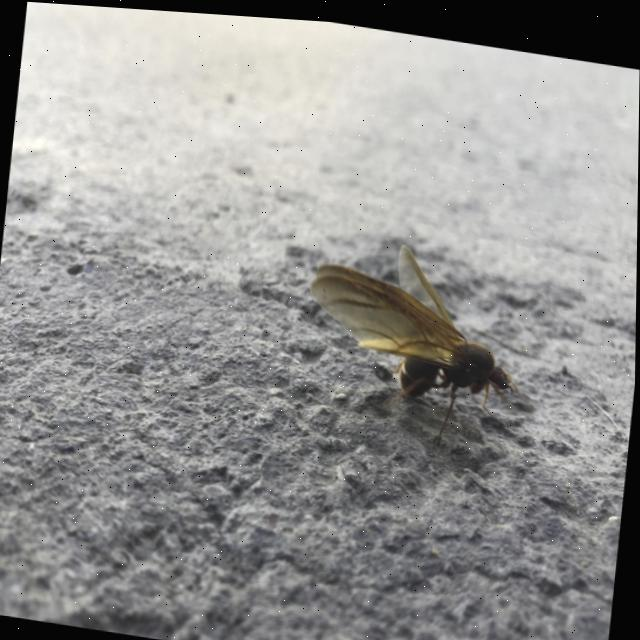Alive-Female-Alate: (296, 224, 534, 452)
